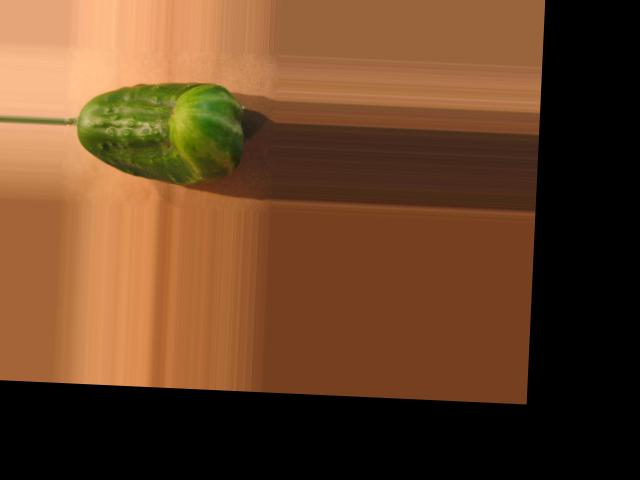cucumber: (74, 76, 245, 186)
